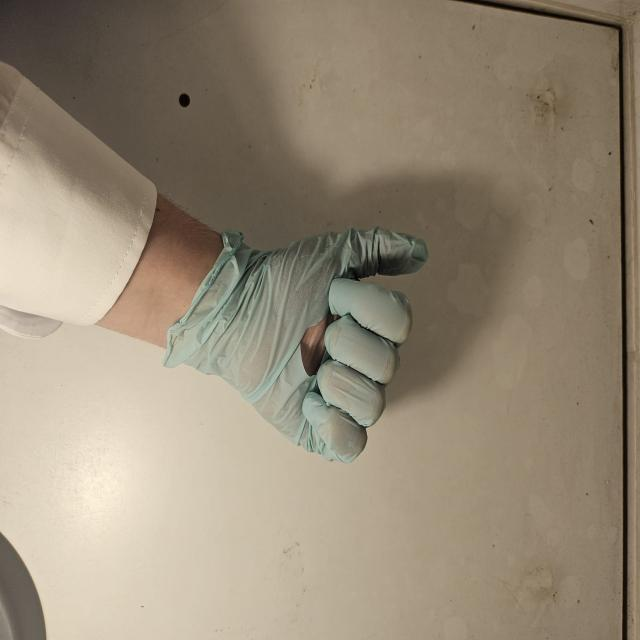gloves_damaged: (164, 227, 432, 464)
